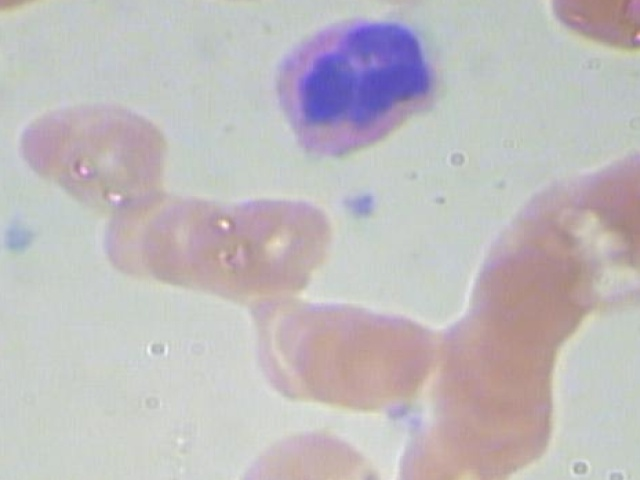Platelets: (339, 187, 383, 224), (0, 219, 38, 256)
RBC: (14, 100, 180, 215), (210, 181, 338, 299), (459, 239, 592, 345), (321, 300, 439, 405), (204, 417, 396, 480), (131, 196, 242, 288), (390, 418, 512, 480), (546, 0, 640, 65)
WBC: (256, 13, 454, 169)
